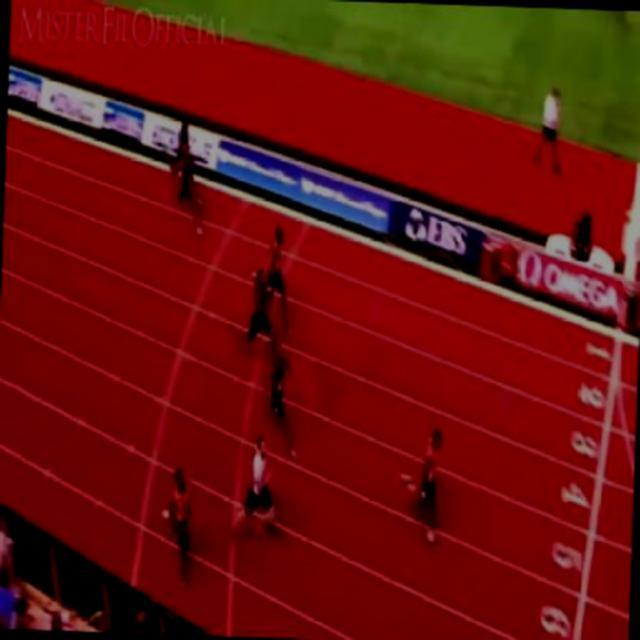non-fight: (227, 428, 278, 544), (162, 455, 204, 591), (162, 132, 210, 243), (410, 415, 447, 551), (261, 351, 304, 466), (235, 255, 280, 360), (262, 208, 296, 338)
